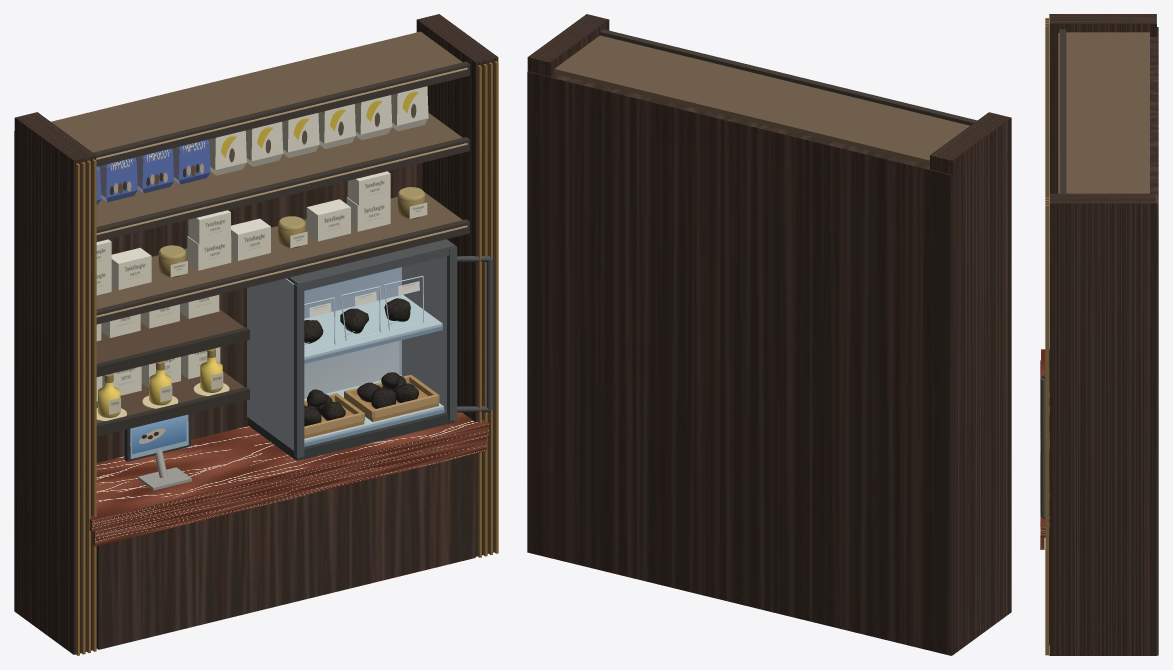
The model's file is counter.glb.
The picture shows the model from 3 angles, left to right: view 1: azimuth 30°, elevation 25°; view 2: azimuth 150°, elevation 25°; view 3: azimuth 270°, elevation 25°; orthographic projection. The views are drawn at different scales.
Parts seen in each view (by area): view 1: Surface; view 2: Surface; view 3: Surface.
Part boxes in pixels (bbox=[...]): Surface: bbox=[14, 14, 498, 655]; Surface: bbox=[527, 14, 1011, 655]; Surface: bbox=[1040, 14, 1158, 655].
Bounding box in the file's own units: 2.53 × 2.82 × 0.6675.
Materials: 1 (1 with a texture image).
